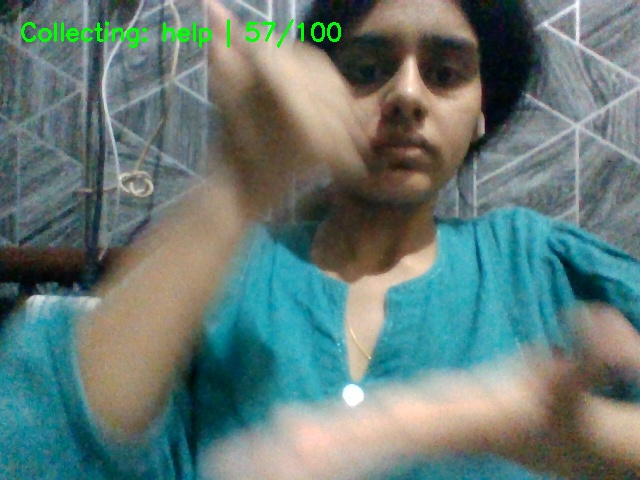help: (193, 1, 552, 480)
